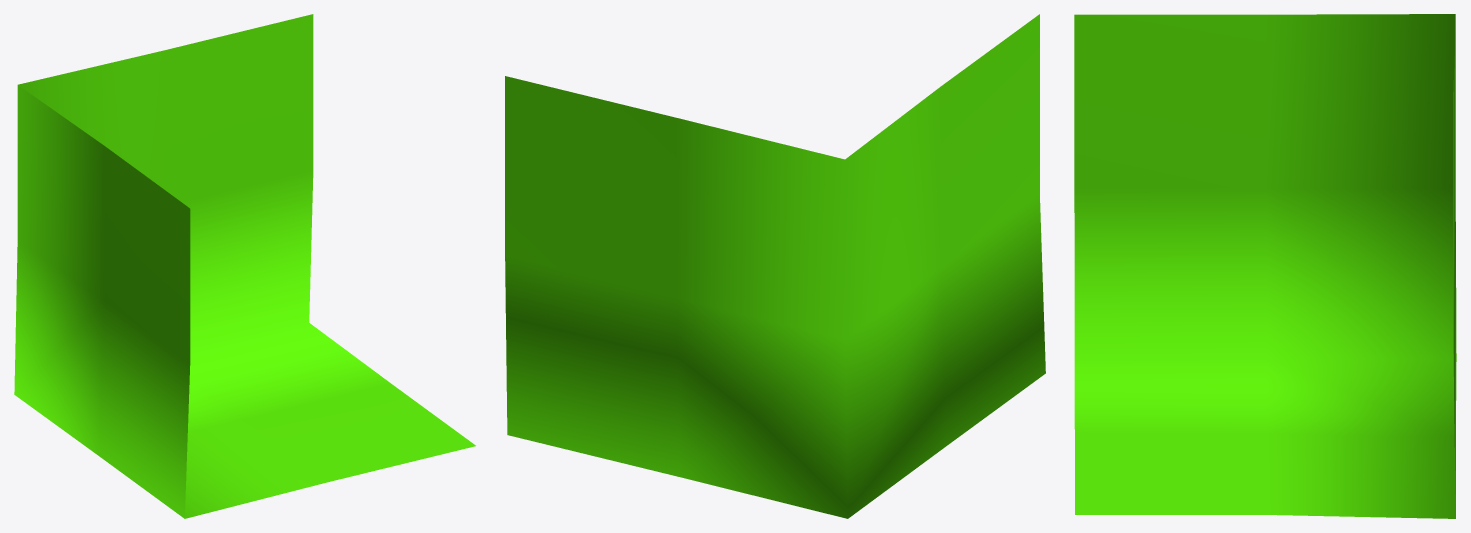
Rendered from Habitación.glb.
3 renders of one model, left to right at view 1: azimuth 30°, elevation 25°; view 2: azimuth 150°, elevation 25°; view 3: azimuth 270°, elevation 25°, orthographic. The views are drawn at different scales.
Visible parts, largest first — view 1: Plane.002; view 2: Plane.002; view 3: Plane.002.
Part boxes in pixels (x1=…): Plane.002: x1=14, y1=14, x2=475, y2=518; Plane.002: x1=505, y1=14, x2=1045, y2=518; Plane.002: x1=1074, y1=14, x2=1456, y2=518.
Size of the model in its own units: 19.38 by 19.27 by 19.24.
